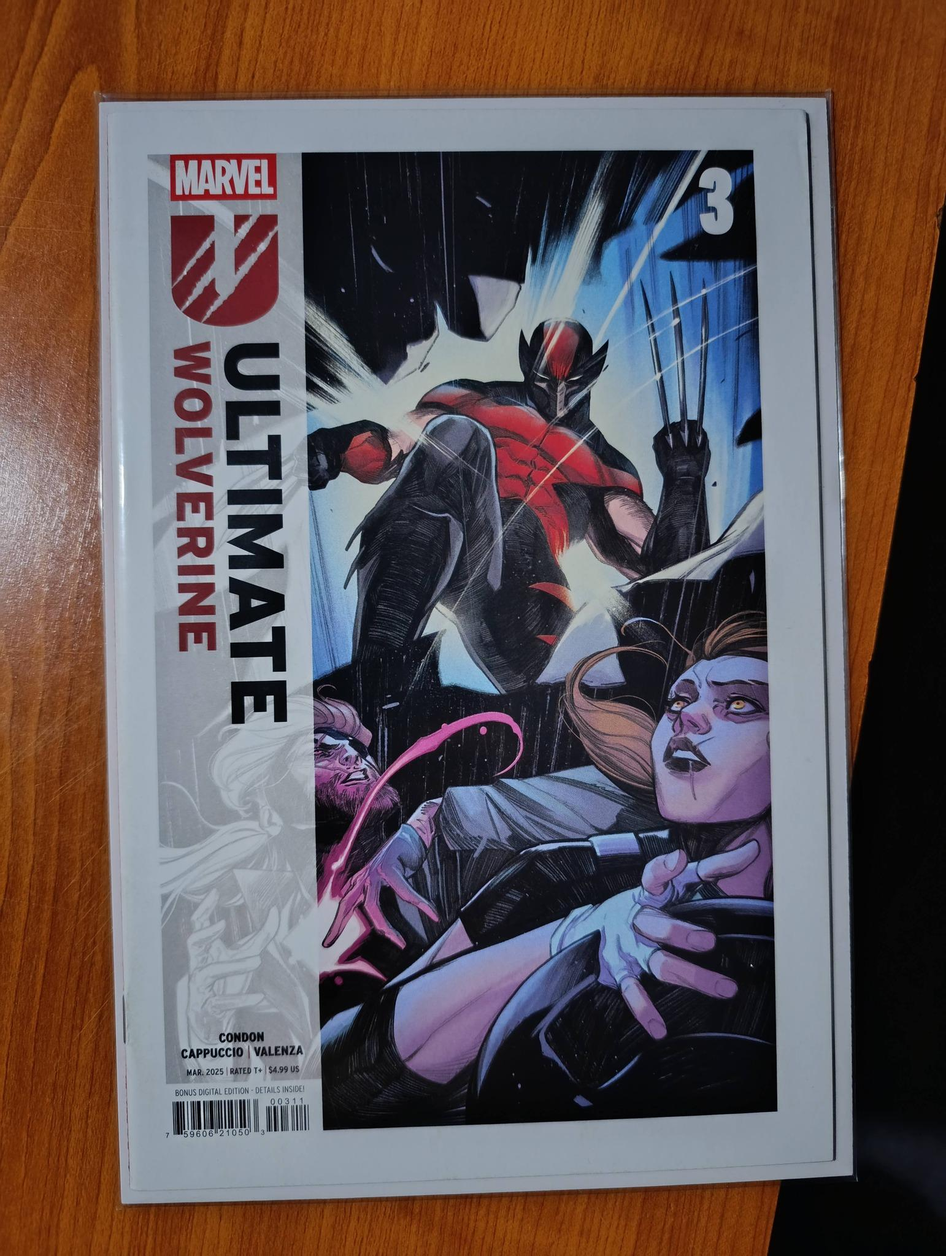comic: (94, 84, 857, 1201)
